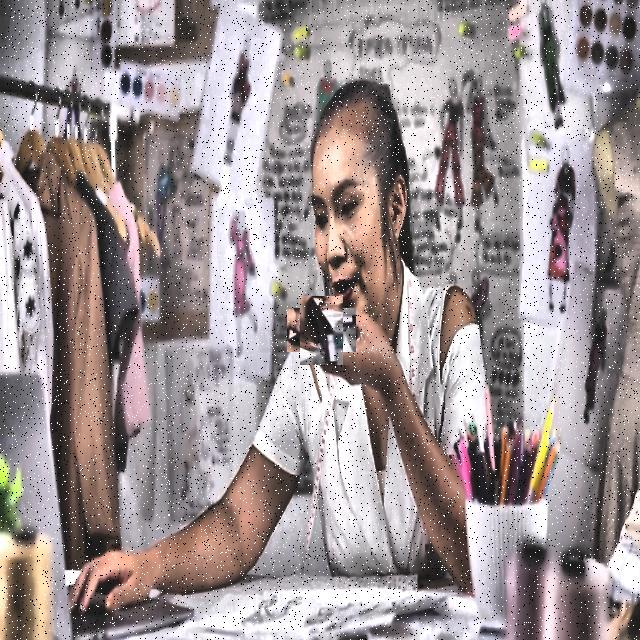Phone: (293, 302, 350, 359)
